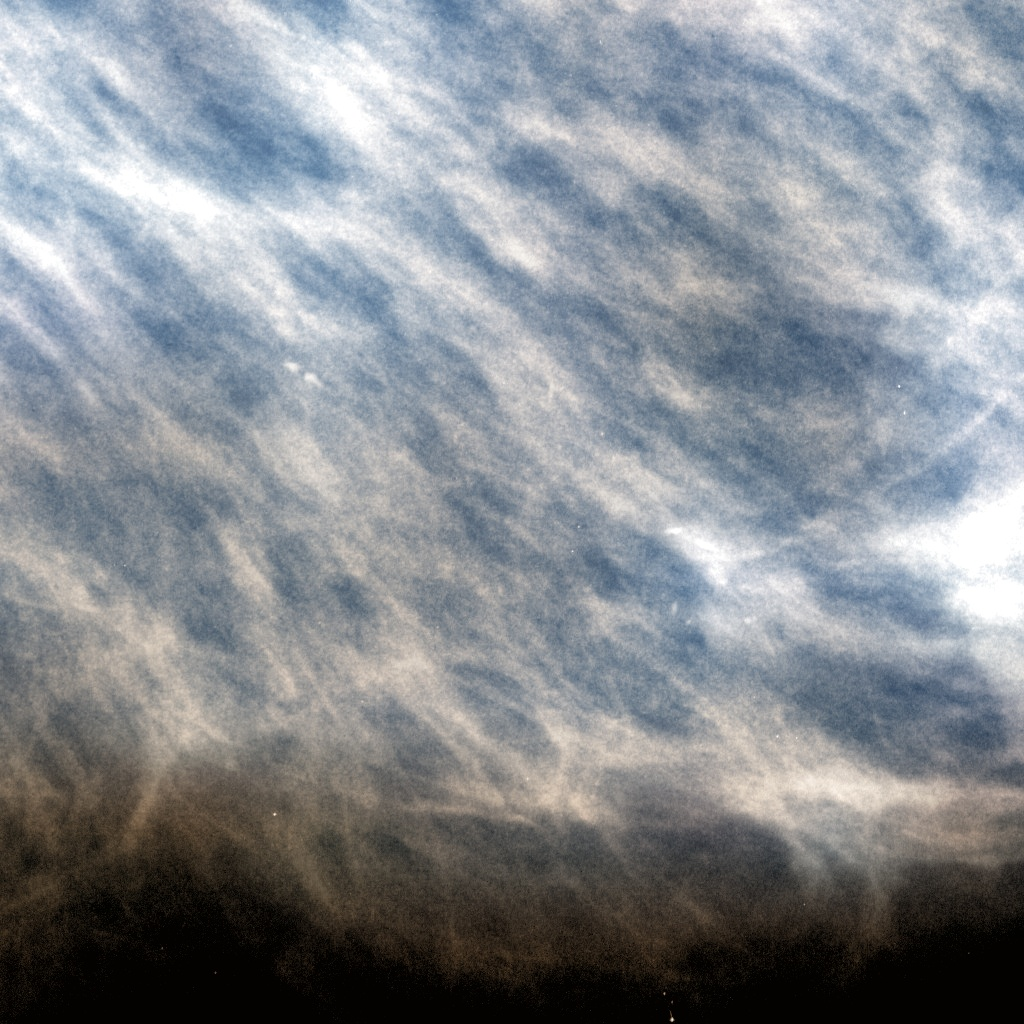tumor: (179, 329, 845, 695)
